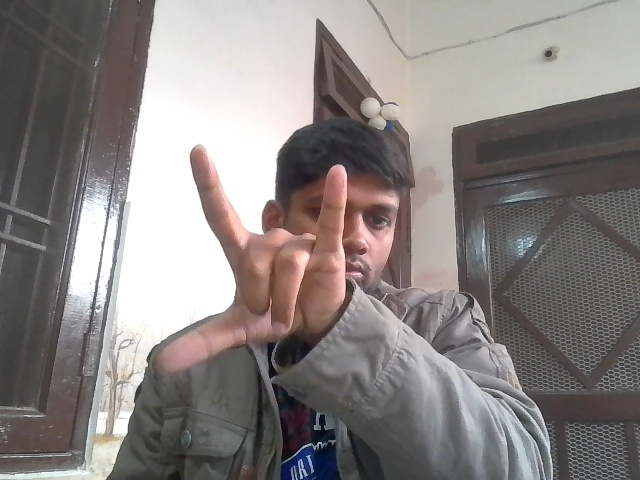ILoveYou: (138, 133, 380, 379)
